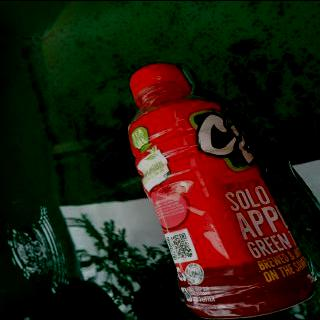bottle: (125, 62, 320, 319)
